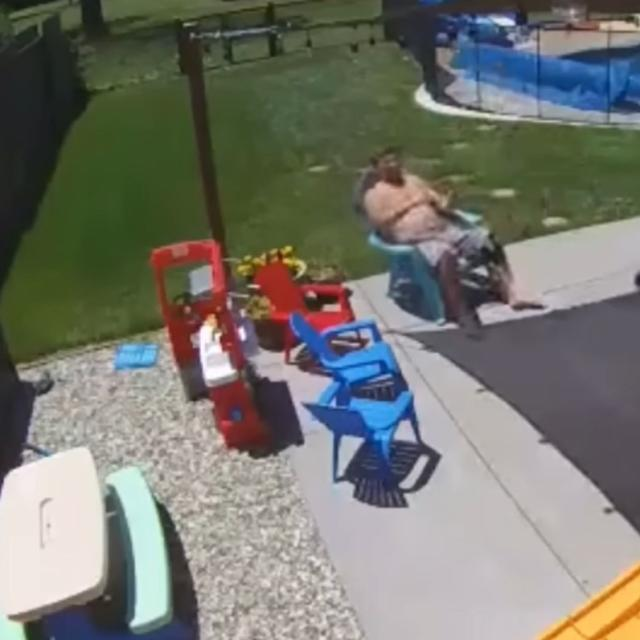sitting: (361, 149, 543, 330)
